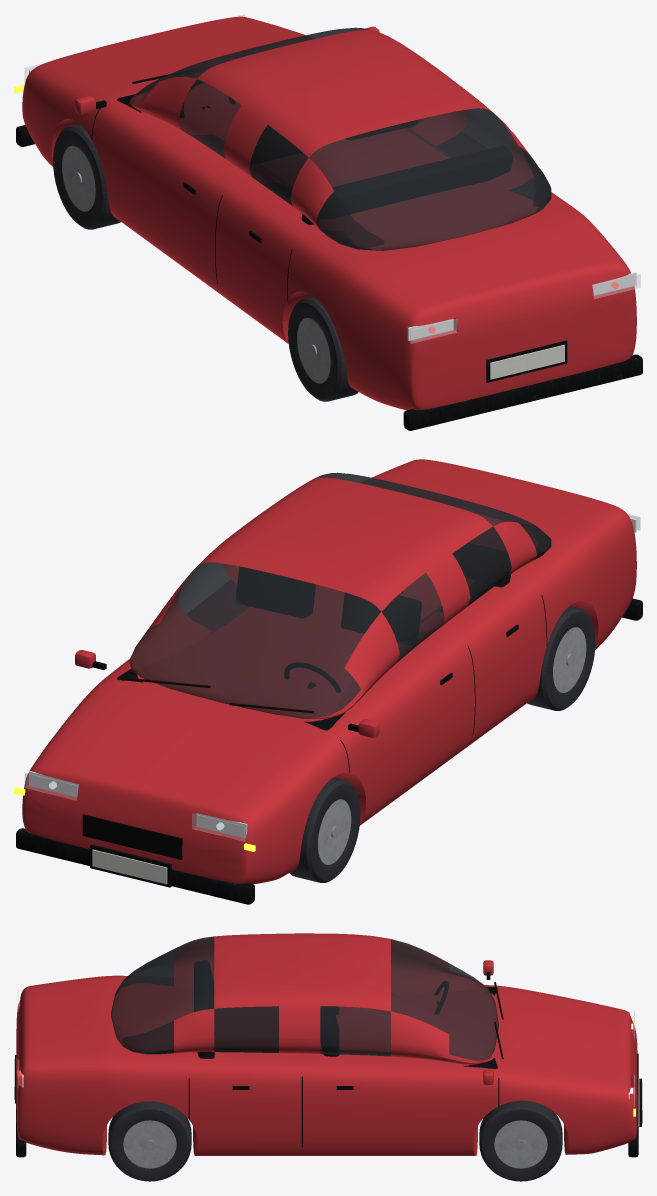
Rendered from saloon_red.gltf.
3 renders of one model, top to bottom at view 1: azimuth 30°, elevation 25°; view 2: azimuth 150°, elevation 25°; view 3: azimuth 270°, elevation 25°, orthographic. The views are drawn at different scales.
Visible parts, largest first — view 1: saloon_red; view 2: saloon_red; view 3: saloon_red.
Part boxes in pixels (x1=…): saloon_red: x1=14, y1=14, x2=642, y2=430; saloon_red: x1=14, y1=459, x2=642, y2=904; saloon_red: x1=14, y1=933, x2=642, y2=1181.
Bounding box in the file's own units: 2.11 × 1.46 × 4.83.
Materials: 17 (8 with a texture image).
